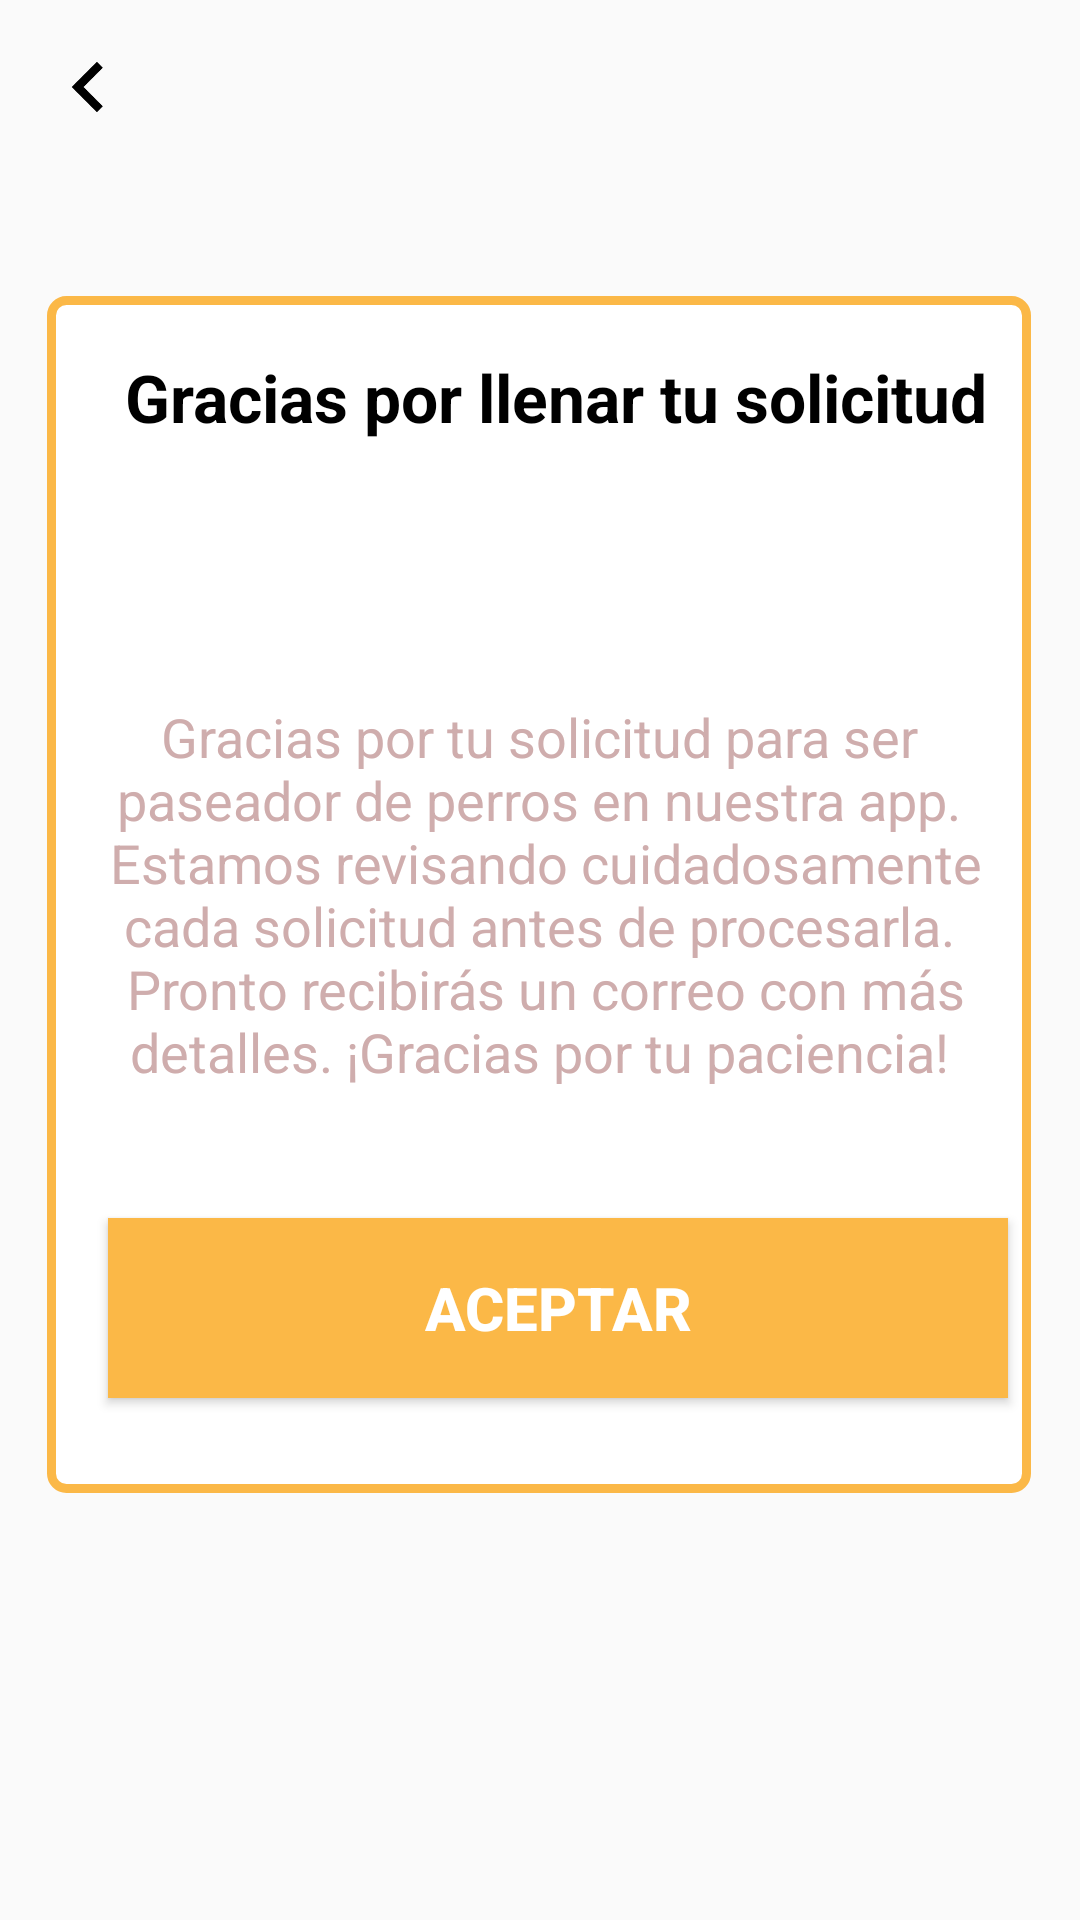

Screen size 1080px x 1920px. Icon name, then its center in pixels as (x=x, y=y):
leftkey: (x=87, y=87)
